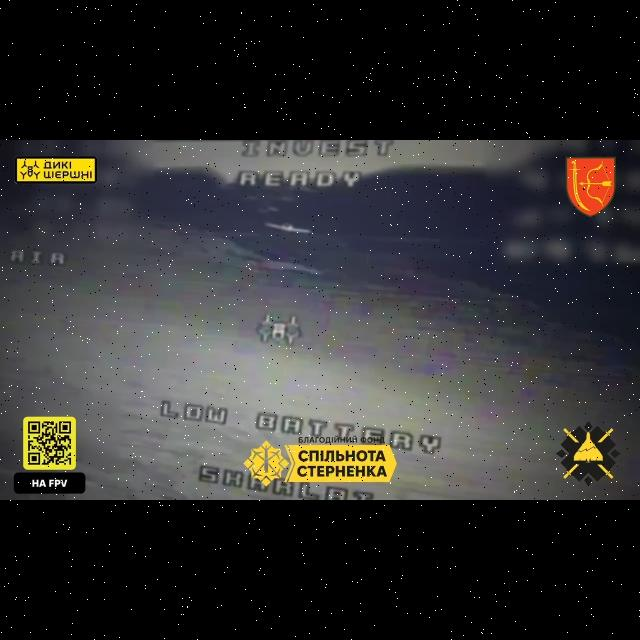Gerbera: (264, 221, 312, 235)
